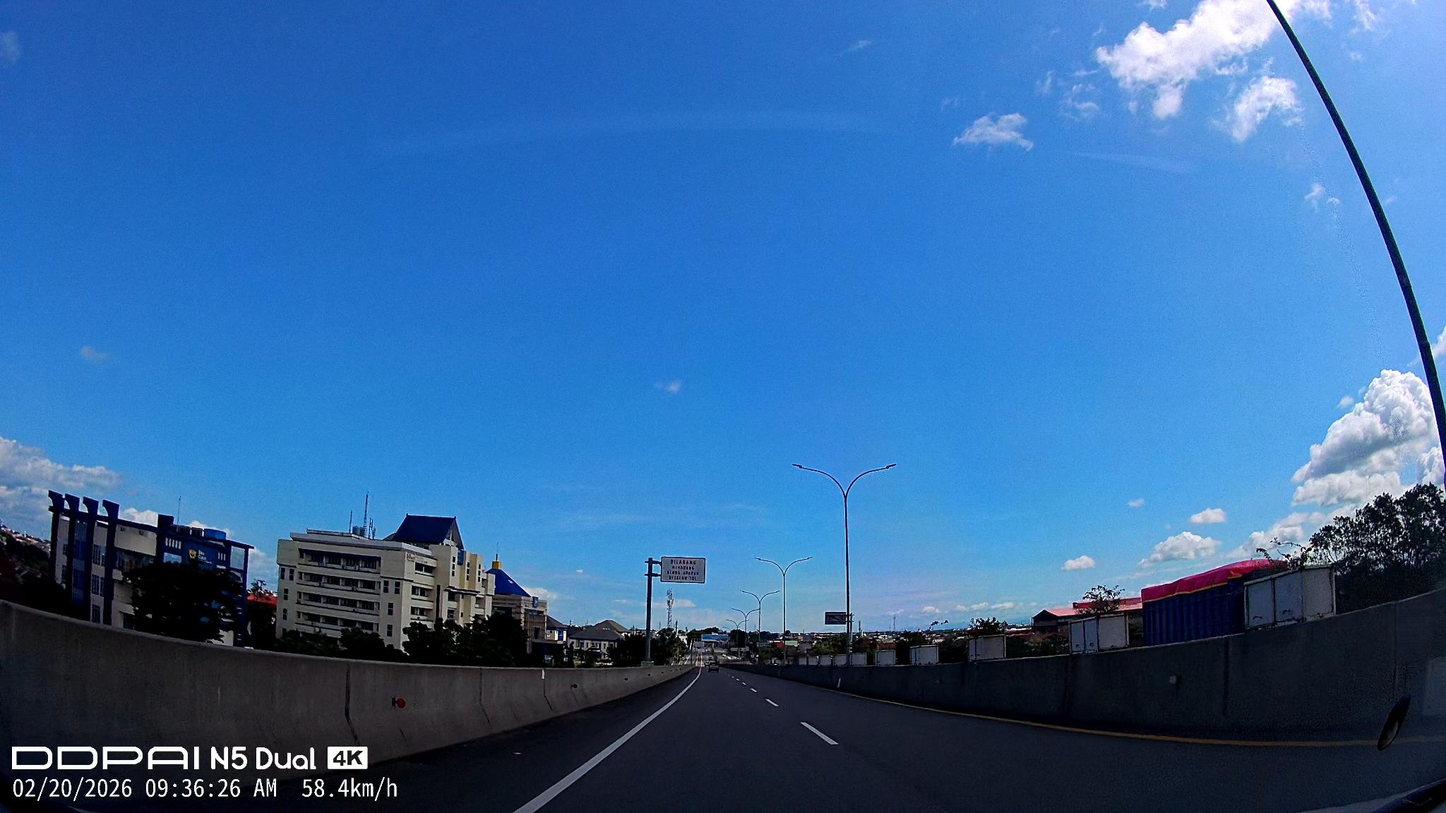rambu_teks: (661, 556, 706, 585)
